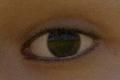eye: (47, 29, 81, 57)
